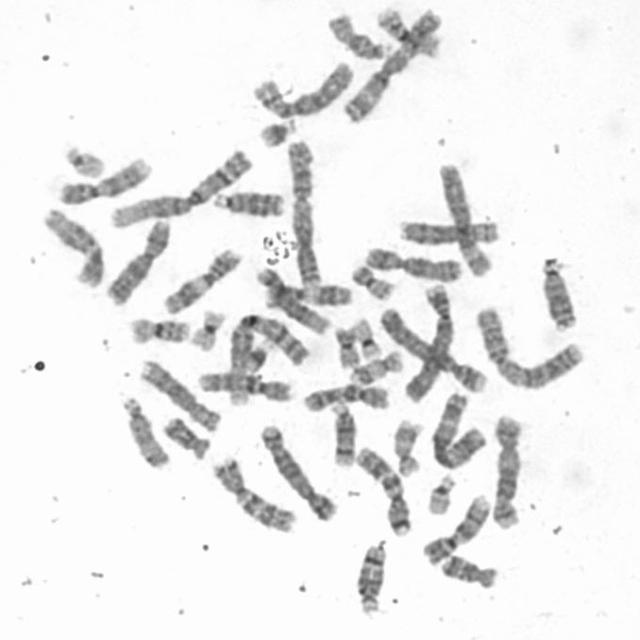A1: (109, 151, 257, 227), (225, 312, 314, 410)
A2: (474, 303, 588, 395), (285, 133, 324, 288)
A3: (343, 8, 440, 128), (425, 388, 492, 474)
B4: (378, 307, 489, 395), (400, 282, 456, 407)
B5: (256, 424, 338, 518), (487, 416, 524, 533)
C10: (195, 367, 298, 408), (300, 381, 393, 417)
C11: (158, 249, 245, 314), (263, 279, 356, 308)
C12: (39, 208, 111, 290), (255, 266, 332, 336)
C6: (432, 158, 496, 278), (251, 57, 357, 121)
C7: (212, 456, 300, 536), (354, 444, 415, 538)
C8: (136, 358, 226, 432), (394, 212, 505, 246)
C9: (56, 153, 158, 211), (419, 492, 490, 564)
D13: (536, 255, 578, 334), (208, 188, 290, 220)
D14: (353, 541, 388, 618), (327, 398, 358, 467)
D15: (117, 395, 173, 473), (326, 10, 397, 62)
E16: (370, 5, 444, 58), (122, 314, 194, 346)
E17: (390, 411, 426, 479), (345, 350, 405, 388)
E18: (434, 552, 501, 591), (159, 415, 213, 461)
F19: (188, 305, 226, 353), (351, 317, 381, 362)
F20: (346, 262, 396, 302), (332, 324, 361, 371)
G21: (253, 116, 298, 150), (242, 336, 274, 374)
G22: (61, 143, 108, 179), (423, 472, 456, 518)
X: (106, 217, 172, 308), (362, 245, 461, 285)
